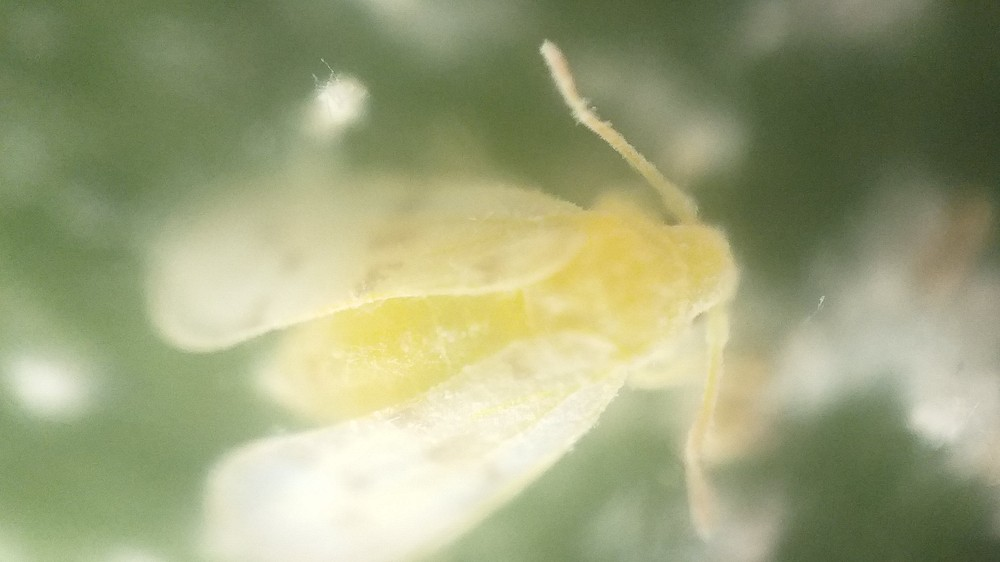Mosca Blanca: (139, 36, 762, 560)
